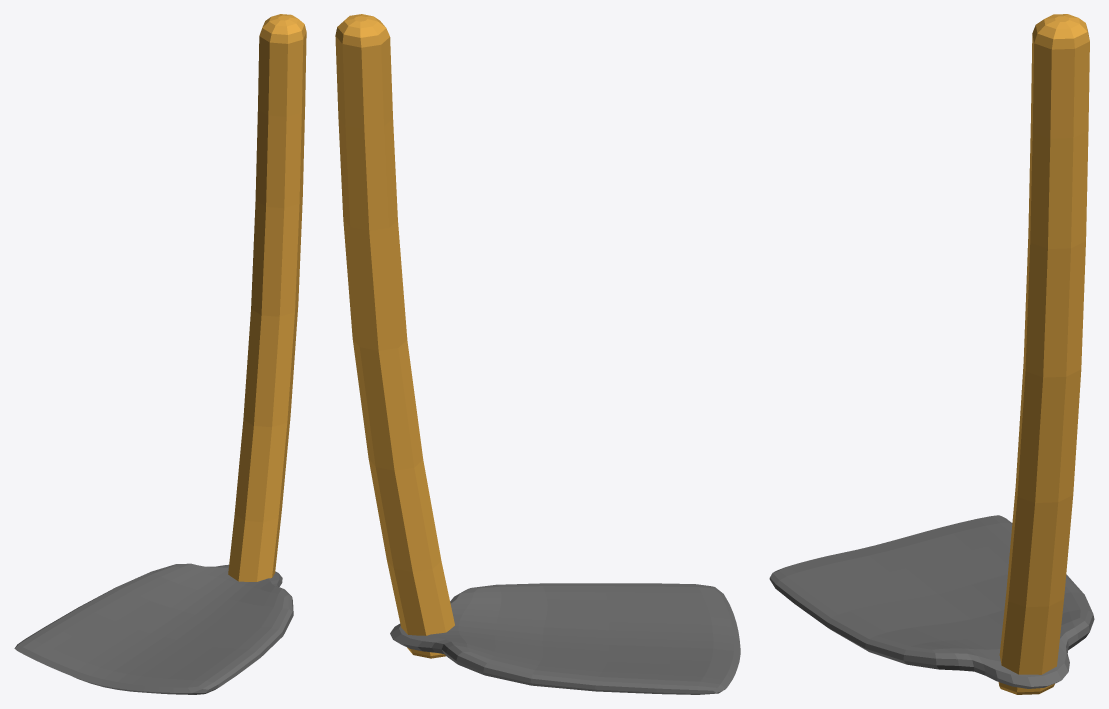
Rendered from hoe.glb.
The picture shows the model from 3 angles, left to right: view 1: azimuth 30°, elevation 25°; view 2: azimuth 150°, elevation 25°; view 3: azimuth 270°, elevation 25°; orthographic projection. The views are drawn at different scales.
Visible parts, largest first — view 1: Hoe; view 2: Hoe; view 3: Hoe.
Part boxes in pixels (x1,y1,x2,y2): Hoe: (14,14,306,694); Hoe: (335,14,740,694); Hoe: (769,14,1094,694).
Bounding box in the file's own units: 2.06 × 3.48 × 1.47.
